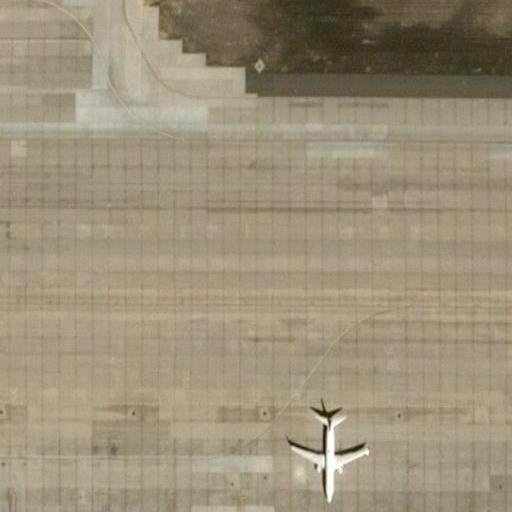Aircraft: (283, 398, 374, 501)
